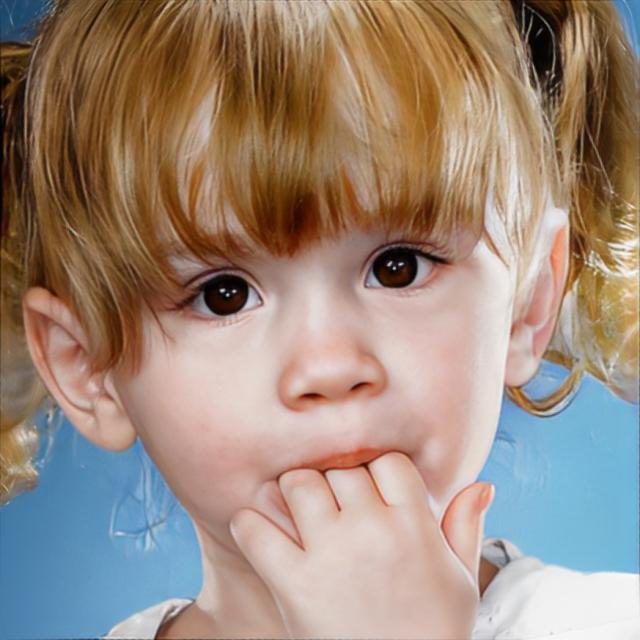surprise: (110, 137, 510, 592)
